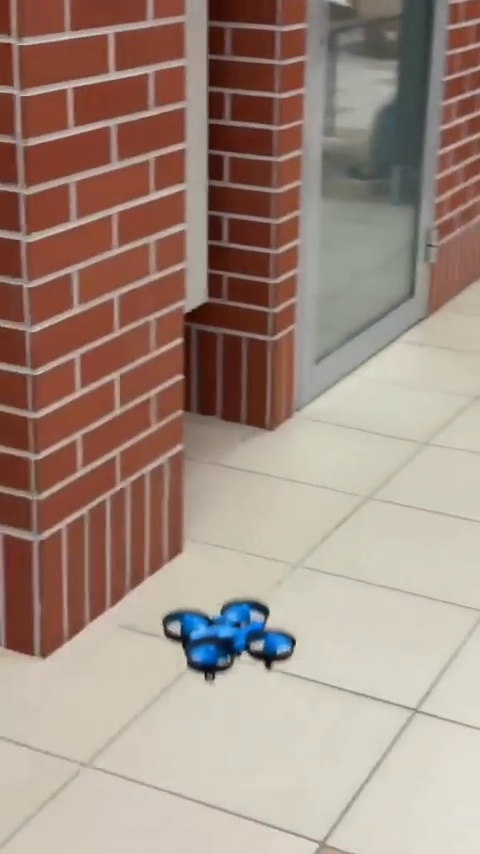drone: (158, 602, 298, 677)
